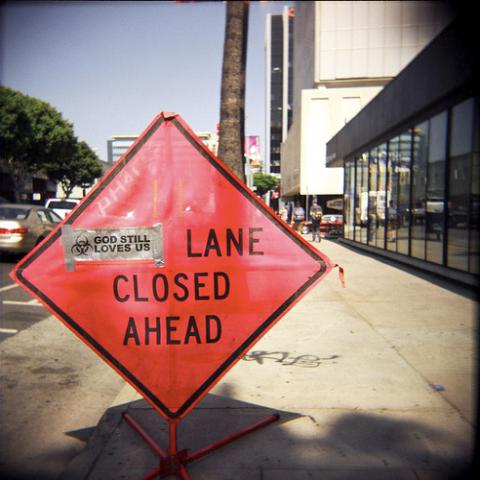car: (0, 198, 80, 253), (303, 214, 344, 234)
